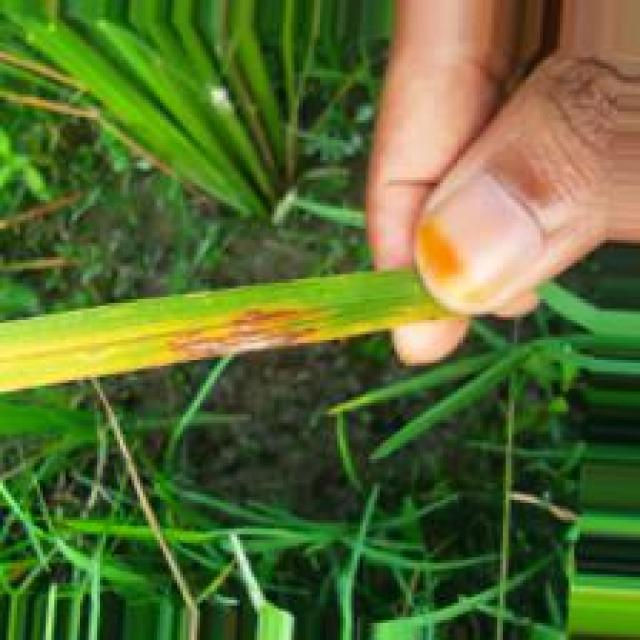Narrow_Brown_Leaf_Spot: (4, 297, 352, 393)
